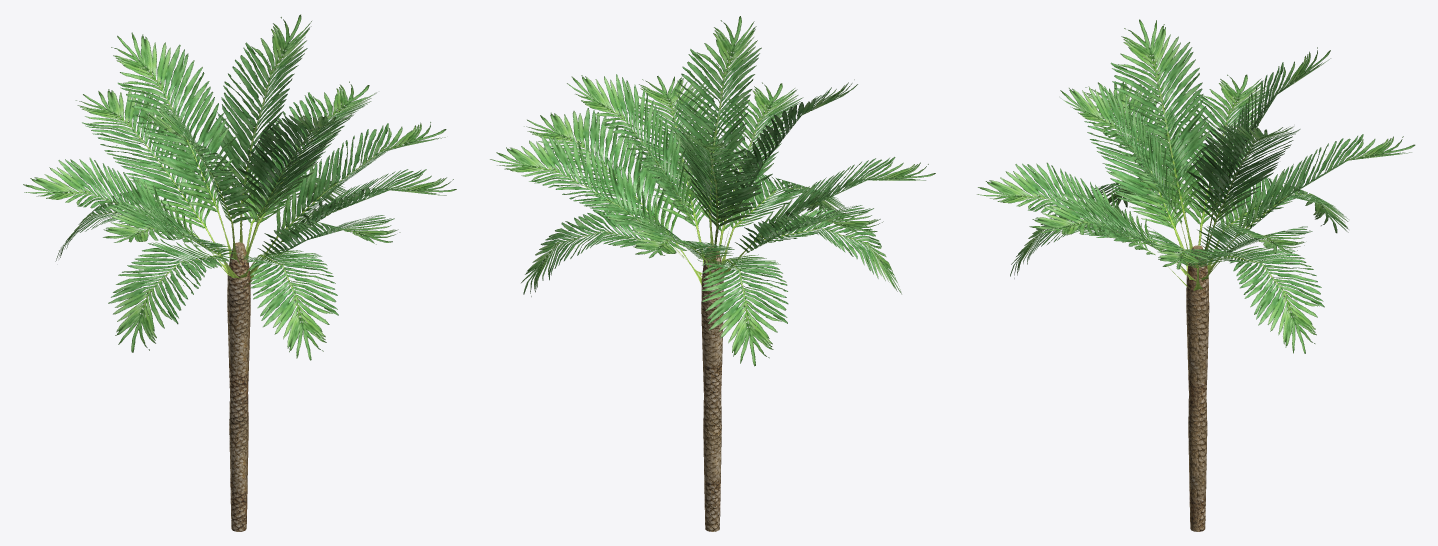
Rendered from HyPV2_LOD0.fbx.
The picture shows the model from 3 angles, left to right: view 1: azimuth 30°, elevation 25°; view 2: azimuth 150°, elevation 25°; view 3: azimuth 270°, elevation 25°; orthographic projection.
Visible parts, largest first — view 1: Mesh Object; view 2: Mesh Object; view 3: Mesh Object.
Boxes of the visible parts, bbox=[...] form: Mesh Object: bbox=[23, 14, 456, 531]; Mesh Object: bbox=[490, 16, 935, 531]; Mesh Object: bbox=[977, 19, 1415, 531].
Size of the model in its own units: 12.97 by 14.45 by 13.12.
